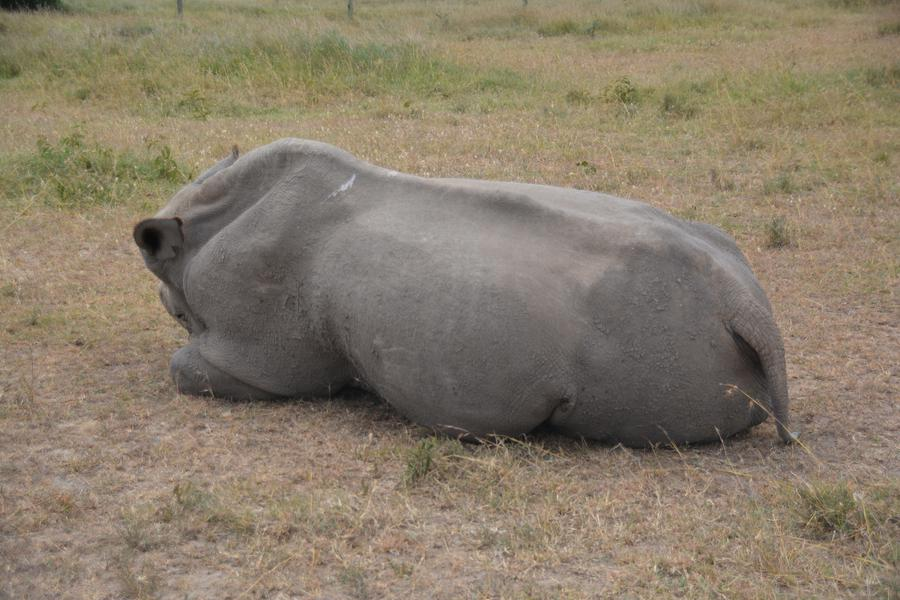rhino: (149, 142, 759, 462)
